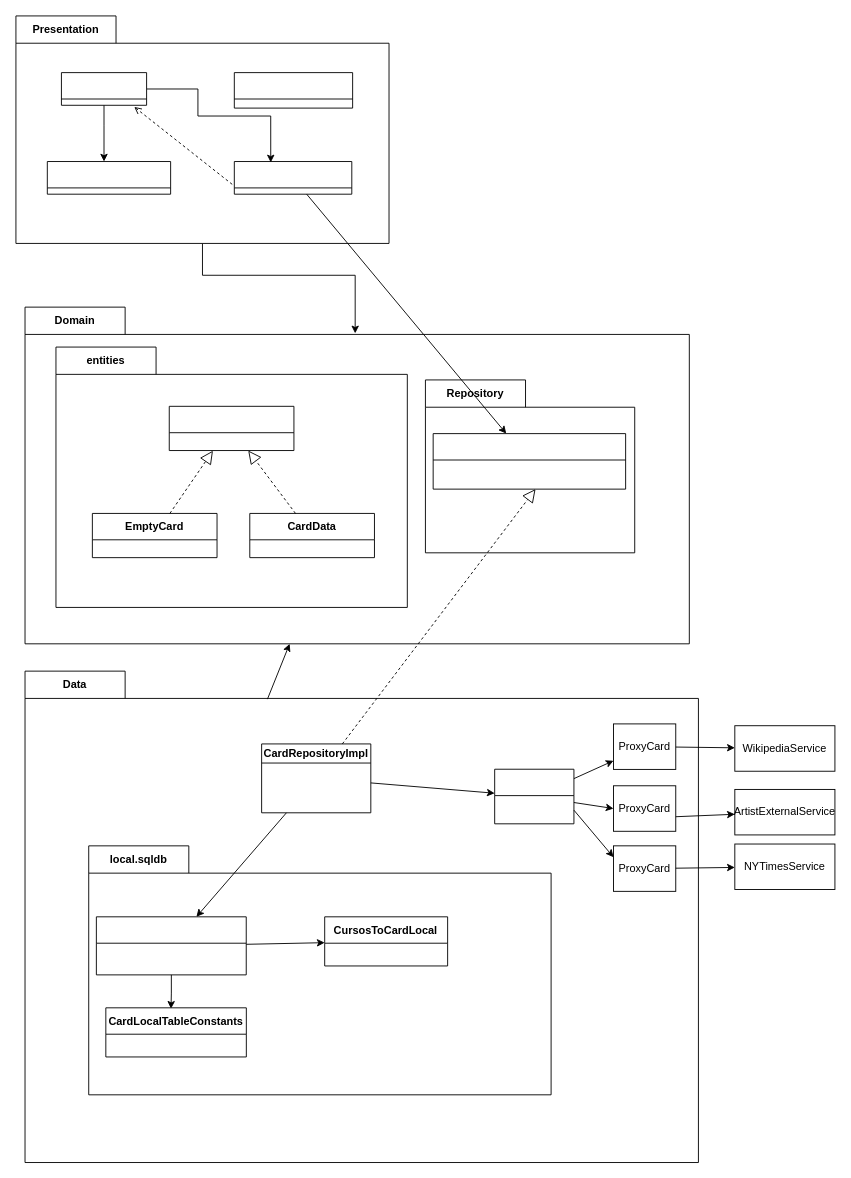
The diagram is 851 pixels wide and 1178 high, and some of its shapes have lost their labels. The shapes that lost their labels are listed below. From the top down, each one's centre as x and y in pixels, then its label:
At point (104, 88): "MoreDetailsView".
At point (293, 90): "CardUiState".
At point (108, 177): "CardDescriptionHelper".
At point (292, 177): "MoreDetailsPresenter".
At point (231, 428): "Card".
At point (529, 461): "CardRepository".
At point (534, 796): "Broker".
At point (170, 945): "CardLocalStorage".
